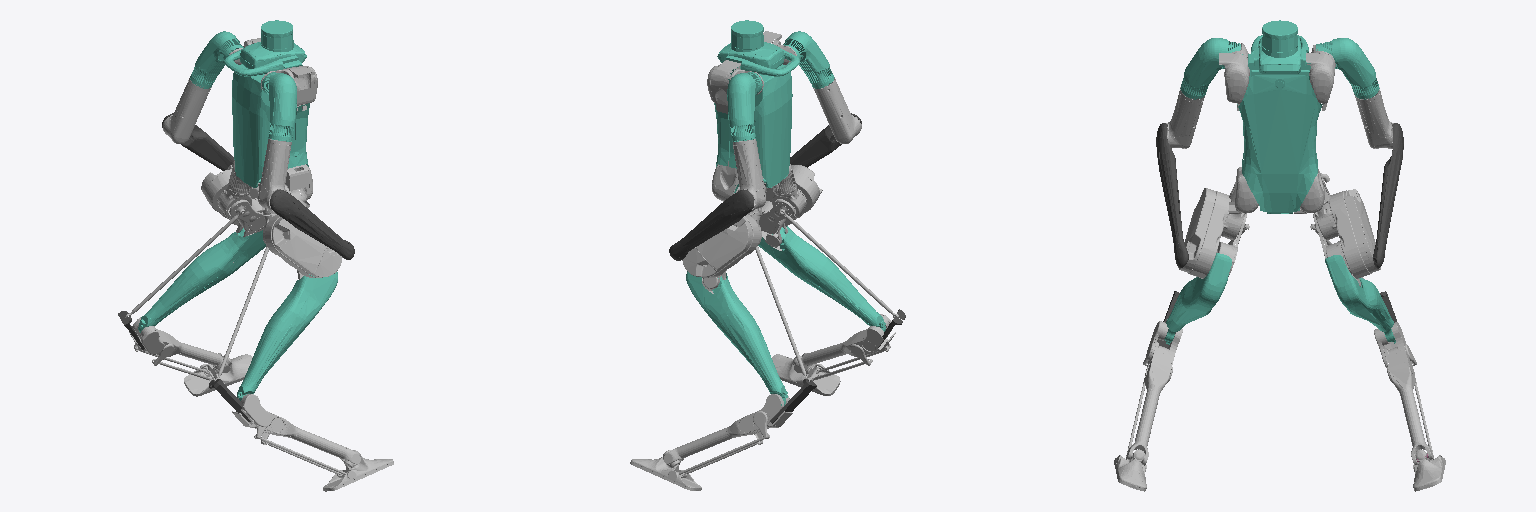
--- Facts derived from the render (not from the file) ---
Views: 3 orthographic renders of the robot side by side, from view 1: azimuth 30°, elevation 25°; view 2: azimuth 150°, elevation 25°; view 3: azimuth 270°, elevation 25°.
Robot: digit-v3-armfixed-floatingbase — 49 links, 48 joints (33 revolute, 3 prismatic, 12 fixed); root link ground; default pose: every joint at zero.
Visible links, largest first — view 1: Rz, right_shin, left_shin, right_hip_pitch, right_tarsus, right_elbow, right_shoulder_pitch, left_shoulder_yaw, left_shoulder_pitch, left_tarsus, right_shoulder_yaw, left_toe_roll (+6 smaller); view 2: Rz, left_shin, right_shin, left_hip_pitch, left_elbow, left_tarsus, left_shoulder_pitch, right_shoulder_yaw, right_tarsus, right_shoulder_pitch, left_shoulder_yaw, right_hip_pitch (+7 smaller); view 3: Rz, left_hip_pitch, right_hip_pitch, left_tarsus, right_tarsus, right_shin, left_shin, right_elbow, left_shoulder_pitch, right_shoulder_pitch, left_elbow, left_shoulder_yaw (+4 smaller).
Boxes of the visible links, box(x1,y1,x2,y2) form: Rz: box(224, 20, 317, 207); right_shin: box(237, 272, 337, 400); left_shin: box(138, 228, 265, 332); right_hip_pitch: box(265, 215, 342, 277); right_tarsus: box(232, 394, 360, 463); right_elbow: box(270, 190, 354, 259); right_shoulder_pitch: box(262, 72, 296, 141); left_shoulder_yaw: box(163, 78, 211, 143); left_shoulder_pitch: box(190, 31, 243, 88); left_tarsus: box(129, 317, 230, 372); right_shoulder_yaw: box(258, 139, 291, 212); left_toe_roll: box(184, 354, 252, 396); Rz: box(707, 20, 799, 201); left_shin: box(686, 271, 787, 405); right_shin: box(758, 226, 885, 331); left_hip_pitch: box(682, 214, 759, 277); left_elbow: box(669, 190, 753, 260); left_tarsus: box(663, 394, 792, 463); left_shoulder_pitch: box(727, 72, 762, 141); right_shoulder_yaw: box(813, 78, 861, 143); right_tarsus: box(794, 314, 895, 372); right_shoulder_pitch: box(783, 31, 834, 88); left_shoulder_yaw: box(733, 139, 765, 211); right_hip_pitch: box(760, 165, 822, 230); Rz: box(1219, 20, 1335, 213); left_hip_pitch: box(1313, 189, 1380, 278); right_hip_pitch: box(1178, 188, 1246, 278); left_tarsus: box(1374, 322, 1433, 464); right_tarsus: box(1126, 321, 1182, 464); right_shin: box(1164, 253, 1231, 344); left_shin: box(1325, 255, 1395, 343); right_elbow: box(1156, 123, 1188, 267); left_shoulder_pitch: box(1316, 38, 1379, 99); right_shoulder_pitch: box(1180, 38, 1242, 99); left_elbow: box(1373, 123, 1403, 268); left_shoulder_yaw: box(1354, 87, 1393, 148).
Size in the robot's own frame: 0.5627 by 0.9376 by 1.4 metres.
41 mesh visuals loaded from 20 distinct referenced files (20 binary STL).

robot.urdf — digit-v3-armfixed-floatingbase:
<?xml version="1.0" encoding="utf-8"?>
<robot name="digit-v3-armfixed-floatingbase">
  <!-- floating base -->
  <link name = "ground">
    <inertial>
      <origin xyz = "0 0 0" rpy = "0 0 0" />
      <mass value = "0"/>
      <inertia ixx = "0" ixy = "0" ixz = "0" iyy = "0" iyz = "0" izz = "0"/>
    </inertial>
  </link>
  <link name = "Px">
    <inertial>
      <origin xyz = "0 0 0" rpy = "0 0 0" />
      <mass value = "0"/>
      <inertia ixx = "0" ixy = "0" ixz = "0" iyy = "0" iyz = "0" izz = "0"/>
    </inertial>
  </link>
  <link name = "Py">
    <inertial>
      <origin xyz = "0 0 0" rpy = "0 0 0" />
      <mass value = "0"/>
      <inertia ixx = "0" ixy = "0" ixz = "0" iyy = "0" iyz = "0" izz = "0"/>
    </inertial>
  </link>
  <link name = "Pz">
    <inertial>
      <origin xyz = "0 0 0" rpy = "0 0 0" />
      <mass value = "0"/>
      <inertia ixx = "0" ixy = "0" ixz = "0" iyy = "0" iyz = "0" izz = "0"/>
    </inertial>
  </link>
  <link name = "Rx">
    <inertial>
      <origin xyz = "0 0 0" rpy = "0 0 0" />
      <mass value = "0"/>
      <inertia ixx = "0" ixy = "0" ixz = "0" iyy = "0" iyz = "0" izz = "0"/>
    </inertial>
  </link>
  <link name = "Ry">
    <inertial>
      <origin xyz = "0 0 0" rpy = "0 0 0" />
      <mass value = "0"/>
      <inertia ixx = "0" ixy = "0" ixz = "0" iyy = "0" iyz = "0" izz = "0"/>
    </inertial>
  </link>
  <link name = "Rz">
    <inertial>
      <origin rpy="0 0 0" xyz="0.001636612541 0.0002001180789 0.2593064529"/>
      <mass value="15.028392"/>
      <inertia ixx="0.3759052548" ixy="-8.776732849e-05" ixz="0.008498611229" iyy="0.3441935" iyz="6.621611757e-05" izz="0.09873232746"/>
    </inertial>
    <visual>
      <origin rpy="0 0 0" xyz="0 0 0"/>
      <geometry>
        <mesh filename="meshes/torso-v3/torso.stl"/>
      </geometry>
      <material name="scarlet">
        <color rgba="0.427 0.784 0.714 1"/>
      </material>
    </visual>
    <visual>
      <origin rpy="0 -1.5707963267948966192313216916398 0" xyz="-0.001 0.091 0"/>
      <geometry>
        <mesh filename="meshes/leg-v3/hip-roll-housing.stl"/>
      </geometry>
      <material name="light_grey">
        <color rgba="0.75 0.75 0.75 1"/>
      </material>
    </visual>
    <visual>
      <origin rpy="-0 -1.5707963267948966192313216916398 0" xyz="-0.001 0.12 0.4"/>
      <geometry>
        <mesh filename="meshes/arm-v3/link-0.stl"/>
      </geometry>
      <material name="light_grey">
        <color rgba="0.75 0.75 0.75 1"/>
      </material>
    </visual>
    <visual>
      <origin rpy="0 -1.5707963267948966192313216916398 0" xyz="-0.001 -0.091 0"/>
      <geometry>
        <mesh filename="meshes/leg-v3/hip-roll-housing.stl"/>
      </geometry>
      <material name="light_grey">
        <color rgba="0.75 0.75 0.75 1"/>
      </material>
    </visual>
    <visual>
      <origin rpy="0 -1.5707963267948966192313216916398 0" xyz="-0.001 -0.12 0.4"/>
      <geometry>
        <mesh filename="meshes/arm-v3/link-0.stl"/>
      </geometry>
      <material name="light_grey">
        <color rgba="0.75 0.75 0.75 1"/>
      </material>
    </visual>
    <collision>
      <origin rpy="0 0 0" xyz="0 0 0"/>
      <geometry>
        <mesh filename="meshes/torso-v3/torso.stl"/>
      </geometry>
    </collision>
    <collision>
      <origin rpy="0 -1.5707963267948966192313216916398 0" xyz="-0.001 0.091 0"/>
      <geometry>
        <mesh filename="meshes/leg-v3/hip-roll-housing.stl"/>
      </geometry>
    </collision>
    <collision>
      <origin rpy="-0.1745   -1.5707963267948966192313216916398         0" xyz="-0.001 0.12 0.4"/>
      <geometry>
        <mesh filename="meshes/arm-v3/link-0.stl"/>
      </geometry>
    </collision>
    <collision>
      <origin rpy="0 -1.5707963267948966192313216916398 0" xyz="-0.001 -0.091 0"/>
      <geometry>
        <mesh filename="meshes/leg-v3/hip-roll-housing.stl"/>
      </geometry>
    </collision>
    <collision>
      <origin rpy="0.1745   -1.5707963267948966192313216916398         0" xyz="-0.001 -0.12 0.4"/>
      <geometry>
        <mesh filename="meshes/arm-v3/link-0.stl"/>
      </geometry>
    </collision>
  </link>

  <!-- left leg -->
  <link name="left_hip_roll">
    <inertial>
      <origin rpy="0 0 0" xyz="-0.001967 0.000244 0.031435"/>
      <mass value="0.915088"/>
      <inertia ixx="0.001017" ixy="-3e-06" ixz="1.3e-05" iyy="0.001148" iyz="-4e-06" izz="0.000766"/>
    </inertial>
    <visual>
      <origin rpy="0 0 0" xyz="0 0 0"/>
      <geometry>
        <mesh filename="meshes/leg-v3/hip-yaw-housing.stl"/>
      </geometry>
      <material name="light_grey">
        <color rgba="0.75 0.75 0.75 1"/>
      </material>
    </visual>
    <collision>
      <origin rpy="0 0 0" xyz="0 0 0"/>
      <geometry>
        <mesh filename="meshes/leg-v3/hip-yaw-housing.stl"/>
      </geometry>
    </collision>
  </link>
  <link name="left_hip_yaw">
    <inertial>
      <origin rpy="0 0 0" xyz="1e-05 -0.001945 0.042033"/>
      <mass value="0.818753"/>
      <inertia ixx="0.001627" ixy="-1e-06" ixz="2e-06" iyy="0.001929" iyz="5.3e-05" izz="0.00077"/>
    </inertial>
    <visual>
      <origin rpy="0 0 0" xyz="0 0 0"/>
      <geometry>
        <mesh filename="meshes/leg-v3/hip-pitch-housing.stl"/>
      </geometry>
      <material name="light_grey">
        <color rgba="0.75 0.75 0.75 1"/>
      </material>
    </visual>
    <collision>
      <origin rpy="0 0 0" xyz="0 0 0"/>
      <geometry>
        <mesh filename="meshes/leg-v3/hip-pitch-housing.stl"/>
      </geometry>
    </collision>
  </link>
  <link name="left_hip_pitch">
    <inertial>
      <origin rpy="0 0 0" xyz="0.060537 0.000521 -0.038857"/>
      <mass value="6.244279"/>
      <inertia ixx="0.011533" ixy="-0.000171" ixz="0.000148" iyy="0.033345" iyz="0.000178" izz="0.033958"/>
    </inertial>
    <visual>
      <origin rpy="0 0 0" xyz="0 0 0"/>
      <geometry>
        <mesh filename="meshes/leg-v3/hip-pitch.stl"/>
      </geometry>
      <material name="scarlet">
        <color rgba="0.75 0.75 0.75 1"/>
      </material>
    </visual>
    <collision>
      <origin rpy="0 0 0" xyz="0 0 0"/>
      <geometry>
        <mesh filename="meshes/leg-v3/hip-pitch.stl"/>
      </geometry>
    </collision>
  </link>

  <!-- left knee close loop -->
  <link name="left_achilles_rod">
    <inertial>
      <origin rpy="0 0 0" xyz="0 0 0"/>
      <mass value="0."/>
      <inertia ixx="0" ixy="0" ixz="0" iyy="0" iyz="0" izz="0"/>
    </inertial>
    <visual>
      <origin rpy="0 0 0" xyz="0 0 0"/>
      <geometry>
        <mesh filename="meshes/leg-v3/achilles-rod.stl"/>
      </geometry>
      <material name="light_grey">
        <color rgba="0.75 0.75 0.75 1"/>
      </material>
    </visual>
    <collision>
      <origin rpy="0 0 0" xyz="0 0 0"/>
      <geometry>
        <mesh filename="meshes/leg-v3/achilles-rod.stl"/>
      </geometry>
    </collision>
  </link>
  <link name="left_ach2">
    <inertial>
      <origin rpy="0 0 0" xyz="0.2506 0 0"/>
      <mass value="0.178148"/>
      <inertia ixx="3e-06" ixy="0" ixz="0" iyy="0.004501" iyz="0" izz="0.004501"/>
    </inertial>
    <visual>
      <origin rpy="0 0 0" xyz="0 0 0"/>
      <geometry>
        <sphere radius = "0.0" />
      </geometry>
    </visual>
    <collision>
      <origin rpy="0 0 0" xyz="0 0 0"/>
      <geometry>
        <sphere radius = "0.0" />
      </geometry>
    </collision>
  </link>

  <link name="left_knee">
    <inertial>
      <origin rpy="0 0 0" xyz="0.045641 0.042154 0.001657"/>
      <mass value="1.227077"/>
      <inertia ixx="0.002643" ixy="-0.001832" ixz="6.6e-05" iyy="0.005098" iyz="4.5e-05" izz="0.007019"/>
    </inertial>
    <visual>
      <origin rpy="0 0 0" xyz="0 0 0"/>
      <geometry>
        <mesh filename="meshes/leg-v3/knee.stl"/>
      </geometry>
      <material name="light_grey">
        <color rgba="0.75 0.75 0.75 1"/>
      </material>
    </visual>
    <collision>
      <origin rpy="0 0 0" xyz="0 0 0"/>
      <geometry>
        <mesh filename="meshes/leg-v3/knee.stl"/>
      </geometry>
    </collision>
  </link>
  <link name="left_shin">
    <inertial>
      <origin rpy="0 0 0" xyz="0.174265 0.010265 0.00107"/>
      <mass value="0.895793"/>
      <inertia ixx="0.001128" ixy="0.001098" ixz="0.000196" iyy="0.022492" iyz="-3e-06" izz="0.022793"/>
    </inertial>
    <visual>
      <origin rpy="0 0 0" xyz="0 0 0"/>
      <geometry>
        <mesh filename="meshes/leg-v3/shin.stl"/>
      </geometry>
      <material name="scarlet">
        <color rgba="0.427 0.784 0.714 1"/>
      </material>
    </visual>
    <collision>
      <origin rpy="0 0 0" xyz="0 0 0"/>
      <geometry>
        <mesh filename="meshes/leg-v3/shin.stl"/>
      </geometry>
    </collision>
  </link>
  <link name="left_tarsus">
    <inertial>
      <origin rpy="0 0 0" xyz="0.100777 -0.029183 0.000678"/>
      <mass value="1.322865"/>
      <inertia ixx="0.000932" ixy="0.00061" ixz="0.000102" iyy="0.016409" iyz="9e-06" izz="0.016501"/>
    </inertial>
    <visual>
      <origin rpy="0 0 0" xyz="0 0 0"/>
      <geometry>
        <mesh filename="meshes/leg-v3/tarsus.stl"/>
      </geometry>
      <material name="light_grey">
        <color rgba="0.75 0.75 0.75 1"/>
      </material>
    </visual>
    <collision>
      <origin rpy="0 0 0" xyz="0 0 0"/>
      <geometry>
        <mesh filename="meshes/leg-v3/tarsus.stl"/>
      </geometry>
    </collision>
  </link>
  <link name="left_heel_spring">
    <inertial>
      <origin rpy="0 0 0" xyz="0.049086 0.004739 -4.5e-05"/>
      <mass value="0.230018"/>
      <inertia ixx="5.5e-05" ixy="1.5e-05" ixz="1e-06" iyy="0.00074" iyz="0" izz="0.000701"/>
    </inertial>
    <visual>
      <origin rpy="0 0 0" xyz="0 0 0"/>
      <geometry>
        <mesh filename="meshes/leg-v3/heel-spring.stl"/>
      </geometry>
      <material name="grey">
        <color rgba="0.35 0.35 0.35 1"/>
      </material>
    </visual>
    <collision>
      <origin rpy="0 0 0" xyz="0 0 0"/>
      <geometry>
        <mesh filename="meshes/leg-v3/heel-spring.stl"/>
      </geometry>
    </collision>
  </link>

  <!-- left toe close loop-->
  <link name="left_toe_A">
    <inertial>
      <origin rpy="0 0 0" xyz="0.005161 1e-06 -0.002248"/>
      <mass value="0.139557"/>
      <inertia ixx="2.9e-05" ixy="0" ixz="-4e-06" iyy="5.8e-05" iyz="0" izz="7.4e-05"/>
    </inertial>
    <visual>
      <origin rpy="0 0 0" xyz="0 0 0"/>
      <geometry>
        <mesh filename="meshes/leg-v3/toe-output.stl"/>
      </geometry>
      <material name="light_grey">
        <color rgba="0.75 0.75 0.75 1"/>
      </material>
    </visual>
    <collision>
      <origin rpy="0 0 0" xyz="0 0 0"/>
      <geometry>
        <mesh filename="meshes/leg-v3/toe-output.stl"/>
      </geometry>
    </collision>
  </link>
  <link name="left_toe_A_rod">
    <inertial>
      <origin rpy="0 0 0" xyz="0 0 0"/>
      <mass value="0."/>
      <inertia ixx="0" ixy="0" ixz="0" iyy="0" iyz="0" izz="0"/>
    </inertial>
    <visual>
      <origin rpy="0 0 0" xyz="0 0 0"/>
      <geometry>
        <mesh filename="meshes/leg-v3/toe-a-rod.stl"/>
      </geometry>
      <material name="light_grey">
        <color rgba="0.75 0.75 0.75 1"/>
      </material>
    </visual>
    <collision>
      <origin rpy="0 0 0" xyz="0 0 0"/>
      <geometry>
        <mesh filename="meshes/leg-v3/toe-a-rod.stl"/>
      </geometry>
    </collision>
  </link>
  <link name="left_A2">
    <inertial>
      <origin rpy="0 0 0" xyz="0.171071 0 0"/>
      <mass value="0.090983"/>
      <inertia ixx="1e-06" ixy="0" ixz="0" iyy="0.001182" iyz="0" izz="0.001182"/>
    </inertial>
    <visual>
      <origin rpy="0 0 0" xyz="0 0 0"/>
      <geometry>
        <sphere radius = "0.0" />
      </geometry>
    </visual>
    <collision>
      <origin rpy="0 0 0" xyz="0 0 0"/>
      <geometry>
        <sphere radius = "0.0" />
      </geometry>
    </collision>
  </link>
  <link name="left_toe_B">
    <inertial>
      <origin rpy="0 0 0" xyz="0.005161 1e-06 -0.002248"/>
      <mass value="0.139557"/>
      <inertia ixx="2.9e-05" ixy="0" ixz="-4e-06" iyy="5.8e-05" iyz="0" izz="7.4e-05"/>
    </inertial>
    <visual>
      <origin rpy="0 0 0" xyz="0 0 0"/>
      <geometry>
        <mesh filename="meshes/leg-v3/toe-output.stl"/>
      </geometry>
      <material name="light_grey">
        <color rgba="0.75 0.75 0.75 1"/>
      </material>
    </visual>
    <collision>
      <origin rpy="0 0 0" xyz="0 0 0"/>
      <geometry>
        <mesh filename="meshes/leg-v3/toe-output.stl"/>
      </geometry>
    </collision>
  </link>
  <link name="left_toe_B_rod">
    <inertial>
      <origin rpy="0 0 0" xyz="0 0 0"/>
      <mass value="0."/>
      <inertia ixx="0" ixy="0" ixz="0" iyy="0" iyz="0" izz="0"/>
    </inertial>
    <visual>
      <origin rpy="0 0 0" xyz="0 0 0"/>
      <geometry>
        <mesh filename="meshes/leg-v3/toe-b-rod.stl"/>
      </geometry>
      <material name="light_grey">
        <color rgba="0.75 0.75 0.75 1"/>
      </material>
    </visual>
    <collision>
      <origin rpy="0 0 0" xyz="0 0 0"/>
      <geometry>
        <mesh filename="meshes/leg-v3/toe-b-rod.stl"/>
      </geometry>
    </collision>
  </link>
  <link name="left_B2">
    <inertial>
      <origin rpy="0 0 0" xyz="0.142991 0 0"/>
      <mass value="0.079507"/>
      <inertia ixx="1e-06" ixy="0" ixz="0" iyy="0.000768" iyz="0" izz="0.000768"/>
    </inertial>
    <visual>
      <origin rpy="0 0 0" xyz="0 0 0"/>
      <geometry>
        <sphere radius = "0.0" />
      </geometry>
    </visual>
    <collision>
      <origin rpy="0 0 0" xyz="0 0 0"/>
      <geometry>
        <sphere radius = "0.0" />
      </geometry>
    </collision>
  </link>

  <link name="left_toe_pitch">
    <inertial>
      <origin rpy="0 0 0" xyz="-0.000141 2e-06 3e-06"/>
      <mass value="0.043881"/>
      <inertia ixx="5e-06" ixy="0" ixz="0" iyy="8e-06" iyz="0" izz="4e-06"/>
    </inertial>
    <visual>
      <origin rpy="0 0 0" xyz="0 0 0"/>
      <geometry>
        <mesh filename="meshes/leg-v3/toe-pitch.stl"/>
      </geometry>
    </visual>
    <collision>
      <origin rpy="0 0 0" xyz="0 0 0"/>
      <geometry>
        <mesh filename="meshes/leg-v3/toe-pitch.stl"/>
      </geometry>
      <material name="light_grey">
        <color rgba="0.75 0.75 0.75 1"/>
      </material>
    </collision>
  </link>
  <link name="left_toe_roll">
    <inertial>
      <origin rpy="0 0 0" xyz="9e-06 -0.028084 -0.023204"/>
      <mass value="0.531283"/>
      <inertia ixx="0.00187" ixy="0" ixz="0" iyy="0.001616" iyz="0.000566" izz="0.000843"/>
    </inertial>
    <visual>
      <origin rpy="0 0 0" xyz="0 0 0"/>
      <geometry>
        <mesh filename="meshes/leg-v3/toe-roll.stl"/>
      </geometry>
      <material name="light_grey">
        <color rgba="0.75 0.75 0.75 1"/>
      </material>
    </visual>
    <collision>
      <origin rpy="0 0 0" xyz="0 0 0"/>
      <geometry>
        <mesh filename="meshes/leg-v3/toe-roll.stl"/>
      </geometry>
    </collision>
  </link>

  <!-- left arm -->
  <link name="left_shoulder_roll">
    <inertial>
      <origin rpy="0 0 0" xyz="-0.000819 -0.003158 0.023405"/>
      <mass value="0.535396"/>
      <inertia ixx="0.000704" ixy="1.4e-05" ixz="1.2e-05" iyy="0.00075" iyz="3.5e-05" izz="0.000298"/>
    </inertial>
    <visual>
      <origin rpy="0         0   -0.2793" xyz="0 0 0"/>
      <geometry>
        <mesh filename="meshes/arm-v3/link-1.stl"/>
      </geometry>
      <material name="light_grey">
        <color rgba="0.75 0.75 0.75 1"/>
      </material>
    </visual>
    <collision>
      <origin rpy="0         0   -0.2793" xyz="0 0 0"/>
      <geometry>
        <mesh filename="meshes/arm-v3/link-1.stl"/>
      </geometry>
    </collision>
  </link>
  <link name="left_shoulder_pitch">
    <inertial>
      <origin rpy="0 0 0" xyz="-4.2e-05 -0.061882 -0.073788"/>
      <mass value="1.440357"/>
      <inertia ixx="0.006761" ixy="-6e-06" ixz="-3e-06" iyy="0.002087" iyz="-0.002046" izz="0.005778"/>
    </inertial>
    <visual>
      <origin rpy="0 0 0" xyz="0 0 0"/>
      <geometry>
        <mesh filename="meshes/arm-v3/link-2.stl"/>
      </geometry>
      <material name="scarlet">
        <color rgba="0.427 0.784 0.714 1"/>
      </material>
    </visual>
    <collision>
      <origin rpy="0 0 0" xyz="0 0 0"/>
      <geometry>
        <mesh filename="meshes/arm-v3/link-2.stl"/>
      </geometry>
    </collision>
  </link>
  <link name="left_shoulder_yaw">
    <inertial>
      <origin rpy="0 0 0" xyz="-3e-05 0.001937 0.11407"/>
      <mass value="1.065387"/>
      <inertia ixx="0.006967" ixy="-1e-06" ixz="-1e-06" iyy="0.007003" iyz="-1.5e-05" izz="0.000673"/>
    </inertial>
    <visual>
      <origin rpy="0 0 0" xyz="0 0 0"/>
      <geometry>
        <mesh filename="meshes/arm-v3/link-3.stl"/>
      </geometry>
      <material name="light_grey">
        <color rgba="0.75 0.75 0.75 1"/>
      </material>
    </visual>
    <collision>
      <origin rpy="0 0 0" xyz="0 0 0"/>
      <geometry>
        <mesh filename="meshes/arm-v3/link-3.stl"/>
      </geometry>
    </collision>
  </link>
  <link name="left_elbow">
    <inertial>
      <origin rpy="0 0 0" xyz="0.107996 0.000521 -0.017765"/>
      <mass value="0.550582"/>
      <inertia ixx="0.000476" ixy="-2.9e-05" ixz="0.001403" iyy="0.009564" iyz="9e-06" izz="0.009437"/>
    </inertial>
    <visual>
      <origin rpy="0 0 0" xyz="0 0 0"/>
      <geometry>
        <mesh filename="meshes/arm-v3/link-4.stl"/>
      </geometry>
      <material name="grey">
        <color rgba="0.35 0.35 0.35 1"/>
      </material>
    </visual>
    <collision>
      <origin rpy="0 0 0" xyz="0 0 0"/>
      <geometry>
        <mesh filename="meshes/arm-v3/link-4.stl"/>
      </geometry>
    </collision>
  </link>
  
  <!-- right leg -->
  <link name="right_hip_roll">
    <inertial>
      <origin rpy="0 0 0" xyz="-0.001967 -0.000244 0.031435"/>
      <mass value="0.915088"/>
      <inertia ixx="0.001017" ixy="3e-06" ixz="1.3e-05" iyy="0.001148" iyz="4e-06" izz="0.000766"/>
    </inertial>
    <visual>
      <origin rpy="0 0 0" xyz="0 0 0"/>
      <geometry>
        <mesh filename="meshes/leg-v3/hip-yaw-housing.stl" scale="1 1 1"/>
      </geometry>
      <material name="light_grey">
        <color rgba="0.75 0.75 0.75 1"/>
      </material>
    </visual>
    <collision>
      <origin rpy="0 0 0" xyz="0 0 0"/>
      <geometry>
        <mesh filename="meshes/leg-v3/hip-yaw-housing.stl" scale="1 1 1"/>
      </geometry>
    </collision>
  </link>
  <link name="right_hip_yaw">
    <inertial>
      <origin rpy="0 0 0" xyz="1e-05 0.001945 0.042033"/>
      <mass value="0.818753"/>
      <inertia ixx="0.001627" ixy="1e-06" ixz="2e-06" iyy="0.001929" iyz="-5.3e-05" izz="0.00077"/>
    </inertial>
    <visual>
      <origin rpy="0 0 3.1415926535897932384626433832795" xyz="0 0 0"/>
      <geometry>
        <mesh filename="meshes/leg-v3/hip-pitch-housing.stl" scale="1 1 1"/>
      </geometry>
      <material name="light_grey">
        <color rgba="0.75 0.75 0.75 1"/>
      </material>
    </visual>
    <collision>
      <origin rpy="0 0 0" xyz="0 0 0"/>
      <geometry>
        <mesh filename="meshes/leg-v3/hip-pitch-housing.stl" scale="1 1 1"/>
      </geometry>
    </collision>
  </link>
  <link name="right_hip_pitch">
    <inertial>
      <origin rpy="0 0 0" xyz="0.060537 -0.000521 -0.038857"/>
      <mass value="6.244279"/>
      <inertia ixx="0.011533" ixy="0.000171" ixz="0.000148" iyy="0.033345" iyz="-0.000178" izz="0.033958"/>
    </inertial>
    <visual>
      <origin rpy="0 0 0" xyz="0 0 0"/>
      <geometry>
        <mesh filename="meshes/leg-v3/hip-pitch.stl" scale="1 1 1"/>
      </geometry>
      <material name="scarlet">
        <color rgba="0.75 0.75 0.75 1"/>
      </material>
    </visual>
    <collision>
      <origin rpy="0 0 0" xyz="0 0 0"/>
      <geometry>
        <mesh filename="meshes/leg-v3/hip-pitch.stl" scale="1 1 1"/>
      </geometry>
    </collision>
  </link>

  <!-- right knee close loop -->
  <link name="right_achilles_rod">
    <inertial>
      <origin rpy="0 0 0" xyz="0 0 0"/>
      <mass value="0."/>
      <inertia ixx="0" ixy="0" ixz="0" iyy="0" iyz="0" izz="0"/>
    </inertial>
    <visual>
      <origin rpy="0 0 0" xyz="0 0 0"/>
      <geometry>
        <mesh filename="meshes/leg-v3/achilles-rod.stl" scale="1 1 1"/>
      </geometry>
      <material name="light_grey">
        <color rgba="0.75 0.75 0.75 1"/>
      </material>
    </visual>
    <collision>
      <origin rpy="0 0 0" xyz="0 0 0"/>
      <geometry>
        <mesh filename="meshes/leg-v3/achilles-rod.stl" scale="1 1 1"/>
      </geometry>
    </collision>
  </link>
  <link name="right_ach2">
    <inertial>
      <origin rpy="0 0 0" xyz="0.2506 0 0"/>
      <mass value="0.178148"/>
      <inertia ixx="3e-06" ixy="0" ixz="0" iyy="0.004501" iyz="0" izz="0.004501"/>
    </inertial>
    <visual>
      <origin rpy="0 0 0" xyz="0 0 0"/>
      <geometry>
        <sphere radius = "0.0" />
      </geometry>
    </visual>
    <collision>
      <origin rpy="0 0 0" xyz="0 0 0"/>
      <geometry>
        <sphere radius = "0.0" />
      </geometry>
    </collision>
  </link>

  <link name="right_knee">
    <inertial>
      <origin rpy="0 0 0" xyz="0.045641 -0.042154 0.001657"/>
      <mass value="1.227077"/>
      <inertia ixx="0.002643" ixy="0.001832" ixz="6.6e-05" iyy="0.005098" iyz="-4.5e-05" izz="0.007019"/>
    </inertial>
    <visual>
      <origin rpy="3.1415926535897932384626433832795 0 0" xyz="0 0 0"/>
      <geometry>
        <mesh filename="meshes/leg-v3/knee.stl" scale="1 1 1"/>
      </geometry>
      <material name="light_grey">
        <color rgba="0.75 0.75 0.75 1"/>
      </material>
    </visual>
    <collision>
      <origin rpy="0 0 0" xyz="0 0 0"/>
      <geometry>
        <mesh filename="meshes/leg-v3/knee.stl" scale="1 1 1"/>
      </geometry>
    </collision>
  </link>
  <link name="right_shin">
    <inertial>
      <origin rpy="0 0 0" xyz="0.174265 -0.010265 0.00107"/>
      <mass value="0.895793"/>
      <inertia ixx="0.001128" ixy="-0.001098" ixz="0.000196" iyy="0.022492" iyz="3e-06" izz="0.022793"/>
    </inertial>
    <visual>
      <origin rpy="3.1415926535897932384626433832795 0 0" xyz="0 0 0"/>
      <geometry>
        <mesh filename="meshes/leg-v3/shin.stl" scale="1 1 1"/>
      </geometry>
      <material name="scarlet">
        <color rgba="0.427 0.784 0.714 1"/>
      </material>
    </visual>
    <collision>
      <origin rpy="0 0 0" xyz="0 0 0"/>
      <geometry>
        <mesh filename="meshes/leg-v3/shin.stl" scale="1 1 1"/>
      </geometry>
    </collision>
  </link>
  <link name="right_tarsus">
    <inertial>
      <origin rpy="0 0 0" xyz="0.100777 0.029183 0.000678"/>
      <mass value="1.322865"/>
      <inertia ixx="0.000932" ixy="-0.00061" ixz="0.000102" iyy="0.016409" iyz="-9e-06" izz="0.016501"/>
    </inertial>
    <visual>
      <origin rpy="3.1415926535897932384626433832795 0 0" xyz="0 0 0"/>
      <geometry>
        <mesh filename="meshes/leg-v3/tarsus.stl" scale="1 1 1"/>
      </geometry>
      <material name="light_grey">
        <color rgba="0.75 0.75 0.75 1"/>
      </material>
    </visual>
    <collision>
      <origin rpy="0 0 0" xyz="0 0 0"/>
      <geometry>
        <mesh filename="meshes/leg-v3/tarsus.stl" scale="1 1 1"/>
      </geometry>
    </collision>
  </link>
  <link name="right_heel_spring">
    <inertial>
      <origin rpy="0 0 0" xyz="0.049086 -0.004739 -4.5e-05"/>
      <mass value="0.230018"/>
      <inertia ixx="5.5e-05" ixy="-1.5e-05" ixz="1e-06" iyy="0.00074" iyz="0" izz="0.000701"/>
    </inertial>
    <visual>
      <origin rpy="0 0 0" xyz="0 0 0"/>
      <geometry>
        <mesh filename="meshes/leg-v3/heel-spring.stl" scale="1 1 1"/>
      </geometry>
      <material name="grey">
        <color rgba="0.35 0.35 0.35 1"/>
      </material>
    </visual>
    <collision>
      <origin rpy="0 0 0" xyz="0 0 0"/>
      <geometry>
        <mesh filename="meshes/leg-v3/heel-spring.stl" scale="1 1 1"/>
      </geometry>
    </collision>
  </link>

  <!-- right toe close loop -->
  <link name="right_toe_A">
    <inertial>
      <origin rpy="0 0 0" xyz="0.005161 -1e-06 -0.002248"/>
      <mass value="0.139557"/>
      <inertia ixx="2.9e-05" ixy="0" ixz="-4e-06" iyy="5.8e-05" iyz="0" izz="7.4e-05"/>
    </inertial>
    <visual>
      <origin rpy="0 0 0" xyz="0 0 0"/>
      <geometry>
        <mesh filename="meshes/leg-v3/toe-output.stl" scale="1 1 1"/>
      </geometry>
      <material name="light_grey">
        <color rgba="0.75 0.75 0.75 1"/>
      </material>
    </visual>
    <collision>
      <origin rpy="0 0 0" xyz="0 0 0"/>
      <geometry>
        <mesh filename="meshes/leg-v3/toe-output.stl" scale="1 1 1"/>
      </geometry>
    </collision>
  </link>
  <link name="right_toe_A_rod">
    <inertial>
      <origin rpy="0 0 0" xyz="0 0 0"/>
      <mass value="0."/>
      <inertia ixx="0" ixy="0" ixz="0" iyy="0" iyz="0" izz="0"/>
    </inertial>
    <visual>
      <origin rpy="0 0 0" xyz="0 0 0"/>
      <geometry>
        <mesh filename="meshes/leg-v3/toe-a-rod.stl" scale="1 1 1"/>
      </geometry>
      <material name="light_grey">
        <color rgba="0.75 0.75 0.75 1"/>
      </material>
    </visual>
    <collision>
      <origin rpy="0 0 0" xyz="0 0 0"/>
      <geometry>
        <mesh filename="meshes/leg-v3/toe-a-rod.stl" scale="1 1 1"/>
      </geometry>
    </collision>
  </link>
  <link name="right_A2">
    <inertial>
      <origin rpy="0 0 0" xyz="0.171071 0 0"/>
      <mass value="0.090983"/>
      <inertia ixx="1e-06" ixy="0" ixz="0" iyy="0.001182" iyz="0" izz="0.001182"/>
    </inertial>
    <visual>
      <origin rpy="0 0 0" xyz="0 0 0"/>
      <geometry>
        <sphere radius = "0.0" />
      </geometry>
    </visual>
    <collision>
      <origin rpy="0 0 0" xyz="0 0 0"/>
      <geometry>
        <sphere radius = "0.0" />
      </geometry>
    </collision>
  </link>
  <link name="right_toe_B">
    <inertial>
      <origin rpy="0 0 0" xyz="0.005161 -1e-06 -0.002248"/>
      <mass value="0.139557"/>
      <inertia ixx="2.9e-05" ixy="0" ixz="-4e-06" iyy="5.8e-05" iyz="0" izz="7.4e-05"/>
    </inertial>
    <visual>
      <origin rpy="0 0 0" xyz="0 0 0"/>
      <geometry>
        <mesh filename="meshes/leg-v3/toe-output.stl" scale="1 1 1"/>
      </geometry>
      <material name="light_grey">
        <color rgba="0.75 0.75 0.75 1"/>
      </material>
    </visual>
    <collision>
      <origin rpy="0 0 0" xyz="0 0 0"/>
      <geometry>
        <mesh filename="meshes/leg-v3/toe-output.stl" scale="1 1 1"/>
      </geometry>
    </collision>
  </link>
  <link name="right_toe_B_rod">
    <inertial>
      <origin rpy="0 0 0" xyz="0 0 0"/>
      <mass value="0."/>
      <inertia ixx="0" ixy="0" ixz="0" iyy="0" iyz="0" izz="0"/>
    </inertial>
    <visual>
      <origin rpy="0 0 0" xyz="0 0 0"/>
      <geometry>
        <mesh filename="meshes/leg-v3/toe-b-rod.stl" scale="1 1 1"/>
      </geometry>
      <material name="light_grey">
        <color rgba="0.75 0.75 0.75 1"/>
      </material>
    </visual>
    <collision>
      <origin rpy="0 0 0" xyz="0 0 0"/>
      <geometry>
        <mesh filename="meshes/leg-v3/toe-b-rod.stl" scale="1 1 1"/>
      </geometry>
    </collision>
  </link>
  <link name="right_B2">
    <inertial>
      <origin rpy="0 0 0" xyz="0.142991 0 0"/>
      <mass value="0.079507"/>
      <inertia ixx="1e-06" ixy="0" ixz="0" iyy="0.000768" iyz="0" izz="0.000768"/>
    </inertial>
    <visual>
      <origin rpy="0 0 0" xyz="0 0 0"/>
      <geometry>
        <sphere radius = "0.0" />
      </geometry>
    </visual>
    <collision>
      <origin rpy="0 0 0" xyz="0 0 0"/>
      <geometry>
        <sphere radius = "0.0" />
      </geometry>
    </collision>
  </link>

  <link name="right_toe_pitch">
    <inertial>
      <origin rpy="0 0 0" xyz="-0.000141 -2e-06 3e-06"/>
      <mass value="0.043881"/>
      <inertia ixx="5e-06" ixy="0" ixz="0" iyy="8e-06" iyz="0" izz="4e-06"/>
    </inertial>
    <visual>
      <origin rpy="0 0 0" xyz="0 0 0"/>
      <geometry>
        <mesh filename="meshes/leg-v3/toe-pitch.stl" scale="1 1 1"/>
      </geometry>
      <material name="light_grey">
        <color rgba="0.75 0.75 0.75 1"/>
      </material>
    </visual>
    <collision>
      <origin rpy="0 0 0" xyz="0 0 0"/>
      <geometry>
        <mesh filename="meshes/leg-v3/toe-pitch.stl" scale="1 1 1"/>
      </geometry>
    </collision>
  </link>
  <link name="right_toe_roll">
    <inertial>
      <origin rpy="0 0 0" xyz="9e-06 0.028084 -0.023204"/>
      <mass value="0.531283"/>
      <inertia ixx="0.00187" ixy="0" ixz="0" iyy="0.001616" iyz="-0.000566" izz="0.000843"/>
    </inertial>
    <visual>
      <origin rpy="0 0 3.1415926535897932384626433832795" xyz="0 0 0"/>
      <geometry>
        <mesh filename="meshes/leg-v3/toe-roll.stl" scale="1 1 1"/>
      </geometry>
      <material name="light_grey">
        <color rgba="0.75 0.75 0.75 1"/>
      </material>
    </visual>
    <collision>
      <origin rpy="0 0 0" xyz="0 0 0"/>
      <geometry>
        <mesh filename="meshes/leg-v3/toe-roll.stl" scale="1 1 1"/>
      </geometry>
    </collision>
  </link>

  <!-- right arm -->
  <link name="right_shoulder_roll">
    <inertial>
      <origin rpy="0 0 0" xyz="-0.000819 0.003158 0.023405"/>
      <mass value="0.535396"/>
      <inertia ixx="0.000704" ixy="-1.4e-05" ixz="1.2e-05" iyy="0.00075" iyz="-3.5e-05" izz="0.000298"/>
    </inertial>
    <visual>
      <origin rpy="0         0    3.1415926535897932384626433832795" xyz="0 0 0"/>
      <geometry>
        <mesh filename="meshes/arm-v3/link-1.stl" scale="1 1 1"/>
      </geometry>
      <material name="light_grey">
        <color rgba="0.75 0.75 0.75 1"/>
      </material>
    </visual>
    <collision>
      <origin rpy="0         0    0.2793" xyz="0 0 0"/>
      <geometry>
        <mesh filename="meshes/arm-v3/link-1.stl" scale="1 1 1"/>
      </geometry>
    </collision>
  </link>
  <link name="right_shoulder_pitch">
    <inertial>
      <origin rpy="0 0 0" xyz="-4.2e-05 0.061882 -0.073788"/>
      <mass value="1.440357"/>
      <inertia ixx="0.006761" ixy="6e-06" ixz="-3e-06" iyy="0.002087" iyz="0.002046" izz="0.005778"/>
    </inertial>
    <visual>
      <origin rpy="0 0 3.1415926535897932384626433832795" xyz="0 0 0"/>
      <geometry>
        <mesh filename="meshes/arm-v3/link-2.stl" scale="1 1 1"/>
      </geometry>
      <material name="scarlet">
        <color rgba="0.427 0.784 0.714 1"/>
      </material>
    </visual>
    <collision>
      <origin rpy="0 0 0" xyz="0 0 0"/>
      <geometry>
        <mesh filename="meshes/arm-v3/link-2.stl" scale="1 1 1"/>
      </geometry>
    </collision>
  </link>
  <link name="right_shoulder_yaw">
    <inertial>
      <origin rpy="0 0 0" xyz="-3e-05 -0.001937 0.11407"/>
      <mass value="1.065387"/>
      <inertia ixx="0.006967" ixy="1e-06" ixz="-1e-06" iyy="0.007003" iyz="1.5e-05" izz="0.000673"/>
    </inertial>
    <visual>
      <origin rpy="0 0 3.1415926535897932384626433832795" xyz="0 0 0"/>
      <geometry>
        <mesh filename="meshes/arm-v3/link-3.stl" scale="1 1 1"/>
      </geometry>
      <material name="light_grey">
        <color rgba="0.75 0.75 0.75 1"/>
      </material>
    </visual>
    <collision>
      <origin rpy="0 0 0" xyz="0 0 0"/>
      <geometry>
        <mesh filename="meshes/arm-v3/link-3.stl" scale="1 1 1"/>
      </geometry>
    </collision>
  </link>
  <link name="right_elbow">
    <inertial>
      <origin rpy="0 0 0" xyz="0.107996 -0.000521 -0.017765"/>
      <mass value="0.550582"/>
      <inertia ixx="0.000476" ixy="2.9e-05" ixz="0.001403" iyy="0.009564" iyz="-9e-06" izz="0.009437"/>
    </inertial>
    <visual>
      <origin rpy="0 0 0" xyz="0 0 0"/>
      <geometry>
        <mesh filename="meshes/arm-v3/link-4.stl" scale="1 1 1"/>
      </geometry>
      <material name="grey">
        <color rgba="0.35 0.35 0.35 1"/>
      </material>
    </visual>
    <collision>
      <origin rpy="0 0 0" xyz="0 0 0"/>
      <geometry>
        <mesh filename="meshes/arm-v3/link-4.stl" scale="1 1 1"/>
      </geometry>
    </collision>
  </link>

  <!-- floating base -->
  <joint name = "Px" type = "prismatic">
    <parent link = "ground" />
    <child link = "Px" />
    <origin xyz = "0 0 0" />
    <axis xyz = "1 0 0" />
    <limit effort="1000" lower="-2" upper="2" velocity="1000"/>
  </joint>
  <joint name = "Py" type = "prismatic">
    <parent link = "Px" />
    <child link = "Py" />
    <origin xyz = "0 0 0" />
    <axis xyz = "0 1 0" />
    <limit effort="1000" lower="-2" upper="2" velocity="1000"/>
  </joint>
  <joint name = "Pz" type = "prismatic">
    <parent link = "Py" />
    <child link = "Pz" />
    <origin xyz = "0 0 0" />
    <axis xyz = "0 0 1" />
    <limit effort="1000" lower="-2" upper="2" velocity="1000"/>
  </joint>
  <joint name = "Rx" type = "revolute">
    <parent link = "Pz" />
    <child link = "Rx" />
    <origin xyz = "0 0 0" />
    <axis xyz = "1 0 0" />
    <limit effort="1000" lower="-1000" upper="1000" velocity="1000"/>
  </joint>
  <joint name = "Ry" type = "revolute">
    <parent link = "Rx" />
    <child link = "Ry" />
    <origin xyz = "0 0 0" />
    <axis xyz = "0 1 0" />
    <limit effort="1000" lower="-1000" upper="1000" velocity="1000"/>
  </joint>    
  <joint name = "Rz" type = "revolute">
    <parent link = "Ry" />
    <child link = "Rz" />
    <origin xyz = "0 0 0" />
    <axis xyz = "0 0 1" />
    <limit effort="1000" lower="-1000" upper="1000" velocity="1000"/>
  </joint> 

  <!-- left leg -->
  <joint name="left_hip_roll" type="revolute">
    <origin rpy="1.5707963267948966192313216916398 -1.1955515003397312323585310878116 -1.5707963267948966192313216916398" xyz="-0.001 0.091 0"/> 
    <axis xyz="0 0 1"/>
    <parent link="Rz"/>
    <child link="left_hip_roll"/>
    <dynamics damping="1.0" friction="1.0"/>
    <limit effort="1.4" lower="-1.0472" upper="1.0472" velocity="12.15"/>
  </joint>
  <joint name="left_hip_yaw" type="revolute">
    <origin rpy="0   -1.5707963267948966192313216916398         0" xyz="-0.0505 0 0.044"/>
    <axis xyz="0 0 1"/>
    <parent link="left_hip_roll"/>
    <child link="left_hip_yaw"/>
    <dynamics damping="1.0" friction="1.0"/>
    <limit effort="1.4" lower="-0.698132" upper="0.698132" velocity="12.15"/>
  </joint>
  <joint name="left_hip_pitch" type="revolute">
    <origin rpy="-1.5707963267948966192313216916398 -0.78539816339739465522740147207514 3.1415926535897932384626433832795" xyz="0 0.004 0.068"/>
    <axis xyz="0 0 -1"/>
    <parent link="left_hip_yaw"/>
    <child link="left_hip_pitch"/>
    <dynamics damping="1.0" friction="0.5"/>
    <limit effort="12.5" lower="-1.0472" upper="1.5707963267948966192313216916398" velocity="8.5"/>
  </joint>

  <!-- left knee close loop -->
  <joint name="left_achilles_rod" type="revolute">
    <origin rpy="0.0087528908613780896652567520277444 0.07085157762907765000015558598534 -1.4355410054288866295024718056084" xyz="0 0 0.046"/>
    <axis xyz="0 0 1"/>
    <parent link="left_hip_pitch"/>
    <child link="left_achilles_rod"/>
    <dynamics damping="0.01" friction="0.0"/>
    <limit effort="12.5" lower="-1.7453" upper="1.7453" velocity="8.5085"/>
  </joint>
  <joint name="left_ach2" type="revolute">
    <origin rpy="0 0 0" xyz="0 0 0"/>
    <axis xyz="0 1 0"/>
    <parent link="left_achilles_rod"/>
    <child link="left_ach2"/>
    <dynamics damping="0.01" friction="0.0"/>
    <limit effort="0.9" lower="-1.7453" upper="1.7453" velocity="11.5"/>
  </joint>

  <joint name="left_knee" type="revolute">
    <origin rpy="0         0   -1.5707963267948966192313216916398" xyz="0.12 0 0.0045"/>
    <axis xyz="0 0 1"/>
    <parent link="left_hip_pitch"/>
    <child link="left_knee"/>
    <dynamics damping="1.0" friction="0.5"/>
    <limit effort="12.5" lower="-1.3963" upper="1.0193" velocity="8.5085"/>
  </joint>
  <joint name="left_shin" type="fixed">
    <origin rpy="0 0 0" xyz="0.060677 0.047406 0"/>
    <axis xyz="0 0 1"/>
    <parent link="left_knee"/>
    <child link="left_shin"/>
    <dynamics damping="0.0" friction="0.0"/>
    <limit effort="0" lower="-0.35" upper="0.35" velocity="10"/>
  </joint>
  <joint name="left_tarsus" type="revolute">
    <origin rpy="0         0    1.7976883650999471164766418951331" xyz="0.434759 0.02 0"/>
    <axis xyz="0 0 1"/>
    <parent link="left_shin"/>
    <child link="left_tarsus"/>
    <dynamics damping="0.0" friction="0.0"/>
    <limit effort="0" lower="-0.8779" upper="1.2497" velocity="20"/>
  </joint>
  <joint name="left_heel_spring" type="fixed">
    <origin rpy="-0.068907263191147760661436905138544 -0.03703539652360886280657581437481 2.7207176029176958209632175567094" xyz="-0.01766 -0.029456 0.00104"/>
    <axis xyz="0 0 1"/>
    <parent link="left_tarsus"/>
    <child link="left_heel_spring"/>
    <dynamics damping="0.0" friction="0.0"/>
    <limit effort="12" lower="-0.1047" upper="0.1047" velocity="11.5"/>
  </joint>

  <!-- left toe close loop -->
  <joint name="left_toe_A" type="revolute">
    <origin rpy="3.1415926535897932384626433832795 0 -1.5526449025733231046331184188602" xyz="0.059 -0.034 -0.0276"/>
    <axis xyz="0 0 1"/>
    <parent link="left_tarsus"/>
    <child link="left_toe_A"/>
    <dynamics damping="1.0" friction="1.0"/>
    <limit effort="0.9" lower="-0.8077" upper="0.7851" velocity="11.5"/>
  </joint>
  <joint name="left_toe_A_rod" type="revolute">
    <origin rpy="-0.037175987474526640819139089444434 0.0069420091856212517295032782271846 -1.5437619437662688515189302052022" xyz="0.057 0 -0.008"/>
    <axis xyz="0 0 1"/>
    <parent link="left_toe_A"/>
    <child link="left_toe_A_rod"/>
    <dynamics damping="0.01" friction="0.0"/>
    <limit effort="0.9" lower="-1.7453" upper="1.7453" velocity="11.5"/>
  </joint>
  <joint name="left_A2" type="revolute">
    <origin rpy="0 0 0" xyz="0 0 0"/>
    <axis xyz="0 1 0"/>
    <parent link="left_toe_A_rod"/>
    <child link="left_A2"/>
    <dynamics damping="0.01" friction="0.0"/>
    <limit effort="0.9" lower="-1.7453" upper="1.7453" velocity="11.5"/>
  </joint>
  <joint name="left_toe_B" type="revolute">
    <origin rpy="0         0   -1.5526446425200970402613620535703" xyz="0.111 -0.034 0.0276"/>
    <axis xyz="0 0 1"/>
    <parent link="left_tarsus"/>
    <child link="left_toe_B"/>
    <dynamics damping="1.0" friction="1.0"/>
    <limit effort="0.9" lower="-0.8010" upper="0.7950" velocity="11.5"/>
  </joint>
  <joint name="left_toe_B_rod" type="revolute">
    <origin rpy="-0.053844685552438438513878082858355 0.0022826832958013874852465363574083 1.5418663490001245364169335516635" xyz="0.057 0 -0.008"/>
    <axis xyz="0 0 1"/>
    <parent link="left_toe_B"/>
    <child link="left_toe_B_rod"/>
    <dynamics damping="0.01" friction="0.0"/>
    <limit effort="0.9" lower="-1.7453" upper="1.7453" velocity="11.5"/>
  </joint>
  <joint name="left_B2" type="revolute">
    <origin rpy="0 0 0" xyz="0 0 0"/>
    <axis xyz="0 1 0"/>
    <parent link="left_toe_B_rod"/>
    <child link="left_B2"/>
    <dynamics damping="0.01" friction="0.0"/>
    <limit effort="0.9" lower="-1.7453" upper="1.7453" velocity="11.5"/>
  </joint>

  <joint name="left_toe_pitch" type="revolute">
    <origin rpy="0         0    1.2522744638393012994725950193242" xyz="0.408 -0.04 0"/>
    <axis xyz="0 0 1"/>
    <parent link="left_tarsus"/>
    <child link="left_toe_pitch"/>
    <dynamics damping="0.0" friction="0.0"/>
    <limit effort="0.9" lower="-0.7679" upper="0.5934" velocity="11.5"/>
  </joint>
  <joint name="left_toe_roll" type="revolute">
    <origin rpy="0    1.5707963267948966192313216916398         0" xyz="0 0 0"/>
    <axis xyz="0 0 1"/>
    <parent link="left_toe_pitch"/>
    <child link="left_toe_roll"/>
    <dynamics damping="0.0" friction="0.0"/>
    <limit effort="0.9" lower="-0.6458" upper="0.5760" velocity="11.5"/>
  </joint>

  <!-- left arm -->
  <joint name="left_shoulder_roll" type="fixed">
    <origin rpy="-1.5707963267948966192313216916398 -1.5467303 1.5707963267948966192313216916398" xyz="-0.001 0.12 0.4"/>
    <axis xyz="0 0 1"/>
    <parent link="Rz"/>
    <child link="left_shoulder_roll"/>
    <dynamics damping="2.0" friction="2.0"/>
    <limit effort="1.4" lower="-1.309" upper="1.309" velocity="12.5"/>
  </joint>
  <joint name="left_shoulder_pitch" type="fixed">
    <origin rpy="1.5707963267948966192313216916398 1.875658163397448285891755404009 -0.2792527" xyz="-0.00317 -0.011055 0.0555"/>
    <axis xyz="0 0 -1"/>
    <parent link="left_shoulder_roll"/>
    <child link="left_shoulder_pitch"/>
    <dynamics damping="2.0" friction="2.0"/>
    <limit effort="1.4" lower="-2.5307" upper="2.5307" velocity="12.5"/>
  </joint>
  <joint name="left_shoulder_yaw" type="fixed">
    <origin rpy="1.5707963267948966192313216916398 -0.14981736 0" xyz="0 -0.165 -0.1"/>
    <axis xyz="0 0 1"/>
    <parent link="left_shoulder_pitch"/>
    <child link="left_shoulder_yaw"/>
    <dynamics damping="2.0" friction="2.0"/>
    <limit effort="1.4" lower="-1.7453" upper="1.7453" velocity="10"/>
  </joint>
  <joint name="left_elbow" type="fixed">
    <origin rpy="1.5707963267948966192313216916398 -0.3926991 0" xyz="0 -0.0385 0.185"/>
    <axis xyz="0 0 1"/>
    <parent link="left_shoulder_yaw"/>
    <child link="left_elbow"/>
    <dynamics damping="2.0" friction="2.0"/>
    <limit effort="1.4" lower="-1.3526" upper="1.3526" velocity="12.5"/>
  </joint>

  <!-- right leg -->
  <joint name="right_hip_roll" type="revolute">
    <origin rpy="-1.5707963267948966192313216916398 -1.1955515003397312323585310878116 1.5707963267948966192313216916398" xyz="-0.001 -0.091 0"/>
    <axis xyz="0 0 1"/>
    <parent link="Rz"/>
    <child link="right_hip_roll"/>
    <dynamics damping="1.0" friction="1.0"/>
    <limit effort="1.4" lower="-1.0472" upper="1.0472" velocity="12.15"/>
  </joint>
  <joint name="right_hip_yaw" type="revolute">
    <origin rpy="0   -1.5707963267948966192313216916398         0" xyz="-0.0505 0 0.044"/>
    <axis xyz="0 0 1"/>
    <parent link="right_hip_roll"/>
    <child link="right_hip_yaw"/>
    <dynamics damping="1.0" friction="1.0"/>
    <limit effort="1.4" lower="-0.698132" upper="0.698132" velocity="12.15"/>
  </joint>
  <joint name="right_hip_pitch" type="revolute">
    <origin rpy="1.5707963267948966192313216916398 -0.78539855435120076165844693605322 3.1415926535897932384626433832795" xyz="0 -0.004 0.068"/>
    <axis xyz="0 0 -1"/>
    <parent link="right_hip_yaw"/>
    <child link="right_hip_pitch"/>
    <dynamics damping="1.0" friction="0.5"/>
    <limit effort="12.5" lower="-1.5707963267948966192313216916398" upper="1.0472" velocity="8.5"/>
  </joint>

  <!-- right knee close loop -->
  <joint name="right_achilles_rod" type="revolute">
    <origin rpy="-0.0087523017375784415566863927438135 0.070851391807226243857442682383407 1.4355417226017064269427692124736" xyz="0 0 0.046"/>
    <axis xyz="0 0 1"/>
    <parent link="right_hip_pitch"/>
    <child link="right_achilles_rod"/>
    <dynamics damping="0.01" friction="0.0"/>
    <limit effort="12.5" lower="-1.7453" upper="1.7453" velocity="8.5085"/>
  </joint>
  <joint name="right_ach2" type="revolute">
    <origin rpy="0 0 0" xyz="0 0 0"/>
    <axis xyz="0 1 0"/>
    <parent link="right_achilles_rod"/>
    <child link="right_ach2"/>
    <dynamics damping="0.01" friction="0.0"/>
    <limit effort="0.9" lower="-1.7453" upper="1.7453" velocity="11.5"/>
  </joint>

  <joint name="right_knee" type="revolute">
    <origin rpy="0         0    1.5707963267948966192313216916398" xyz="0.12 0 0.0045"/>
    <axis xyz="0 0 1"/>
    <parent link="right_hip_pitch"/>
    <child link="right_knee"/>
    <dynamics damping="1.0" friction="0.5"/>
    <limit effort="12.5" lower="-1.0193" upper="1.3963" velocity="8.5085"/>
  </joint>
  <joint name="right_shin" type="fixed">
    <origin rpy="0 0 0" xyz="0.060677 -0.047406 0"/>
    <axis xyz="0 0 1"/>
    <parent link="right_knee"/>
    <child link="right_shin"/>
    <dynamics damping="0.0" friction="0.0"/>
    <limit effort="0" lower="-0.35" upper="0.35" velocity="10"/>
  </joint>
  <joint name="right_tarsus" type="revolute">
    <origin rpy="0         0   -1.7976883650999471164766418951331" xyz="0.434759 -0.02 0"/>
    <axis xyz="0 0 1"/>
    <parent link="right_shin"/>
    <child link="right_tarsus"/>
    <dynamics damping="0.0" friction="0.0"/>
    <limit effort="0" lower="-1.2497" upper="0.8779" velocity="20"/>
  </joint>
  <joint name="right_heel_spring" type="fixed">
    <origin rpy="0.068907849662554282454962617521232 -0.037035299439698535217679875586327 -2.7207170387858861104746210912708" xyz="-0.01766 0.029456 0.00104"/>
    <axis xyz="0 0 1"/>
    <parent link="right_tarsus"/>
    <child link="right_heel_spring"/>
    <dynamics damping="0.0" friction="0.0"/>
    <limit effort="12" lower="-0.1047" upper="0.1047" velocity="11.5"/>
  </joint> 

  <!-- right toe close loop -->
  <joint name="right_toe_A" type="revolute">
    <origin rpy="3.1415926535897932384626433832795 0 1.5526446425200970402613620535703" xyz="0.059 0.034 -0.0276"/>
    <axis xyz="0 0 1"/>
    <parent link="right_tarsus"/>
    <child link="right_toe_A"/>
    <dynamics damping="1.0" friction="1.0"/>
    <limit effort="0.9" lower="-0.7851" upper="0.8077" velocity="11.5"/>
  </joint>
  <joint name="right_toe_A_rod" type="revolute">
    <origin rpy="0.03717647899635967423392912678537 0.0069418384185932916277672610760874 1.5437611240201540852012840332463" xyz="0.057 0 -0.008"/>
    <axis xyz="0 0 1"/>
    <parent link="right_toe_A"/>
    <child link="right_toe_A_rod"/>
    <dynamics damping="0.01" friction="0.0"/>
    <limit effort="0.9" lower="-1.7453" upper="1.7453" velocity="11.5"/>
  </joint>
  <joint name="right_A2" type="revolute">
    <origin rpy="0 0 0" xyz="0 0 0"/>
    <axis xyz="0 1 0"/>
    <parent link="right_toe_A_rod"/>
    <child link="right_A2"/>
    <dynamics damping="0.01" friction="0.0"/>
    <limit effort="0.9" lower="-1.7453" upper="1.7453" velocity="11.5"/>
  </joint>
  <joint name="right_toe_B" type="revolute">
    <origin rpy="0         0    1.5526446425200970402613620535703" xyz="0.111 0.034 0.0276"/>
    <axis xyz="0 0 1"/>
    <parent link="right_tarsus"/>
    <child link="right_toe_B"/>
    <dynamics damping="1.0" friction="1.0"/>
    <limit effort="0.9" lower="-0.7950" upper="0.8010" velocity="11.5"/>
  </joint>
  <joint name="right_toe_B_rod" type="revolute">
    <origin rpy="0.053844685552438438513878082858355 0.0022826832958013874852465363574083 -1.5418663490001245364169335516635" xyz="0.057 0 -0.008"/>
    <axis xyz="0 0 1"/>
    <parent link="right_toe_B"/>
    <child link="right_toe_B_rod"/>
    <dynamics damping="0.01" friction="0.0"/>
    <limit effort="0.9" lower="-1.7453" upper="1.7453" velocity="11.5"/>
  </joint>
  <joint name="right_B2" type="revolute">
    <origin rpy="0 0 0" xyz="0 0 0"/>
    <axis xyz="0 1 0"/>
    <parent link="right_toe_B_rod"/>
    <child link="right_B2"/>
    <dynamics damping="0.01" friction="0.0"/>
    <limit effort="0.9" lower="-1.7453" upper="1.7453" velocity="11.5"/>
  </joint>

  <joint name="right_toe_pitch" type="revolute">
    <origin rpy="0         0   -1.2522744638393012994725950193242" xyz="0.408 0.04 0"/>
    <axis xyz="0 0 1"/>
    <parent link="right_tarsus"/>
    <child link="right_toe_pitch"/>
    <dynamics damping="0.0" friction="0.0"/>
    <limit effort="0.9" lower="-0.5934" upper="0.7679" velocity="11.5"/>
  </joint>
  <joint name="right_toe_roll" type="revolute">
    <origin rpy="0    1.5707963267948966192313216916398         0" xyz="0 0 0"/>
    <axis xyz="0 0 1"/>
    <parent link="right_toe_pitch"/>
    <child link="right_toe_roll"/>
    <dynamics damping="0.0" friction="0.0"/>
    <limit effort="0.9" lower="-0.5760" upper="0.6458" velocity="11.5"/>
  </joint>

  <!-- right arm -->
  <joint name="right_shoulder_roll" type="fixed">
    <origin rpy="1.5707963267948966192313216916398 -1.5467303 -1.5707963267948966192313216916398" xyz="-0.001 -0.12 0.4"/>
    <axis xyz="0 0 1"/>
    <parent link="Rz"/>
    <child link="right_shoulder_roll"/>
    <dynamics damping="2.0" friction="2.0"/>
    <limit effort="1.4" lower="-1.309" upper="1.309" velocity="12.5"/>
  </joint>
  <joint name="right_shoulder_pitch" type="fixed">
    <origin rpy="-1.5707963267948966192313216916398 1.875658163397448285891755404009 0.2792527" xyz="-0.00317 0.011055 0.0555"/>
    <axis xyz="0 0 -1"/>
    <parent link="right_shoulder_roll"/>
    <child link="right_shoulder_pitch"/>
    <dynamics damping="2.0" friction="2.0"/>
    <limit effort="1.4" lower="-2.5307" upper="2.5307" velocity="12.5"/>
  </joint>
  <joint name="right_shoulder_yaw" type="fixed">
    <origin rpy="-1.5707963267948966192313216916398 -0.14981736 0" xyz="0 0.165 -0.1"/>
    <axis xyz="0 0 1"/>
    <parent link="right_shoulder_pitch"/>
    <child link="right_shoulder_yaw"/>
    <dynamics damping="2.0" friction="2.0"/>
    <limit effort="1.4" lower="-1.7453" upper="1.7453" velocity="10"/>
  </joint>
  <joint name="right_elbow" type="fixed">
    <origin rpy="-1.5707963267948966192313216916398 -0.3926991 0" xyz="0 0.0385 0.185"/>
    <axis xyz="0 0 1"/>
    <parent link="right_shoulder_yaw"/>
    <child link="right_elbow"/>
    <dynamics damping="2.0" friction="2.0"/>
    <limit effort="1.4" lower="-1.3526" upper="1.3526" velocity="12.5"/>
  </joint>
</robot>
